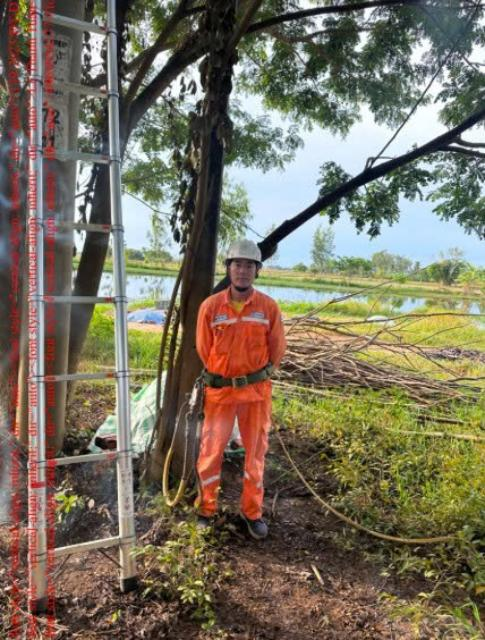harness: (198, 363, 288, 393)
helmet: (221, 234, 267, 269)
shoes: (237, 509, 278, 544), (190, 518, 215, 542)
